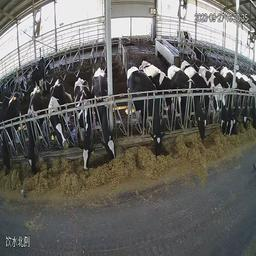cow: (124, 62, 168, 166), (170, 58, 205, 150), (91, 61, 118, 164), (72, 78, 96, 177), (1, 86, 21, 182), (23, 84, 43, 179), (46, 76, 69, 158), (160, 65, 185, 123), (204, 76, 222, 128), (221, 64, 233, 140), (236, 70, 249, 132), (30, 52, 51, 84), (174, 27, 194, 50)
